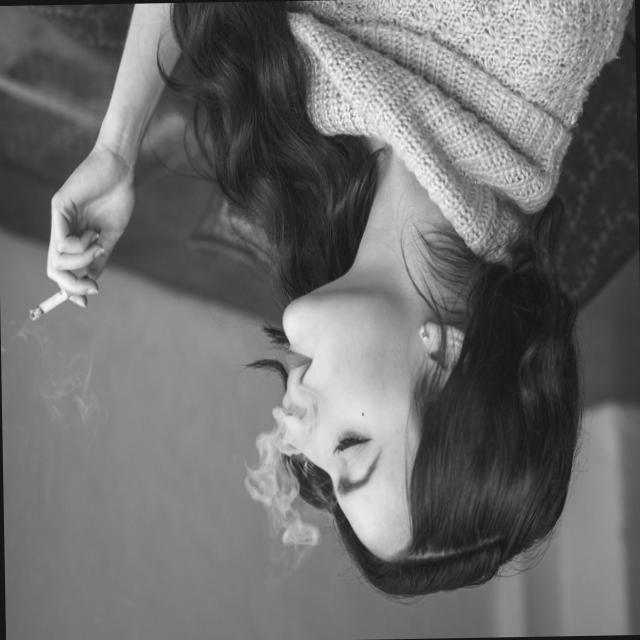smoke: (15, 258, 99, 336)
